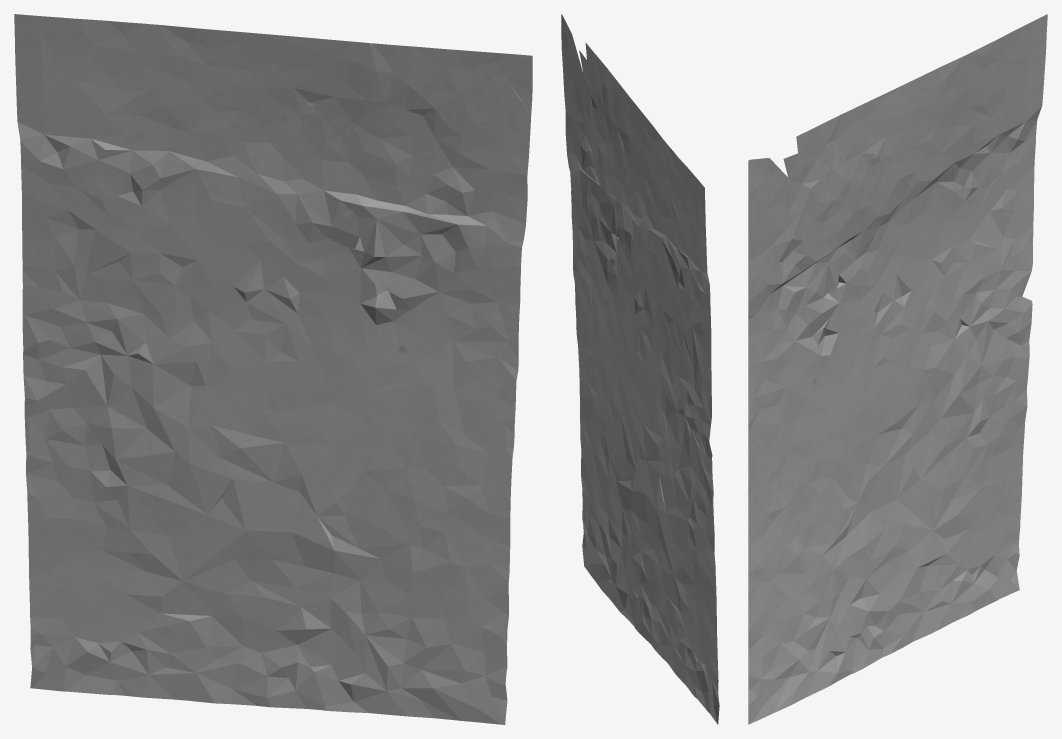
The picture shows the model from 3 angles, left to right: view 1: azimuth 30°, elevation 25°; view 2: azimuth 150°, elevation 25°; view 3: azimuth 270°, elevation 25°; orthographic projection. The views are drawn at different scales.
Bounding box in the file's own units: 0.9156 × 1.67 × 0.7896.
2 materials, 2 textured.
